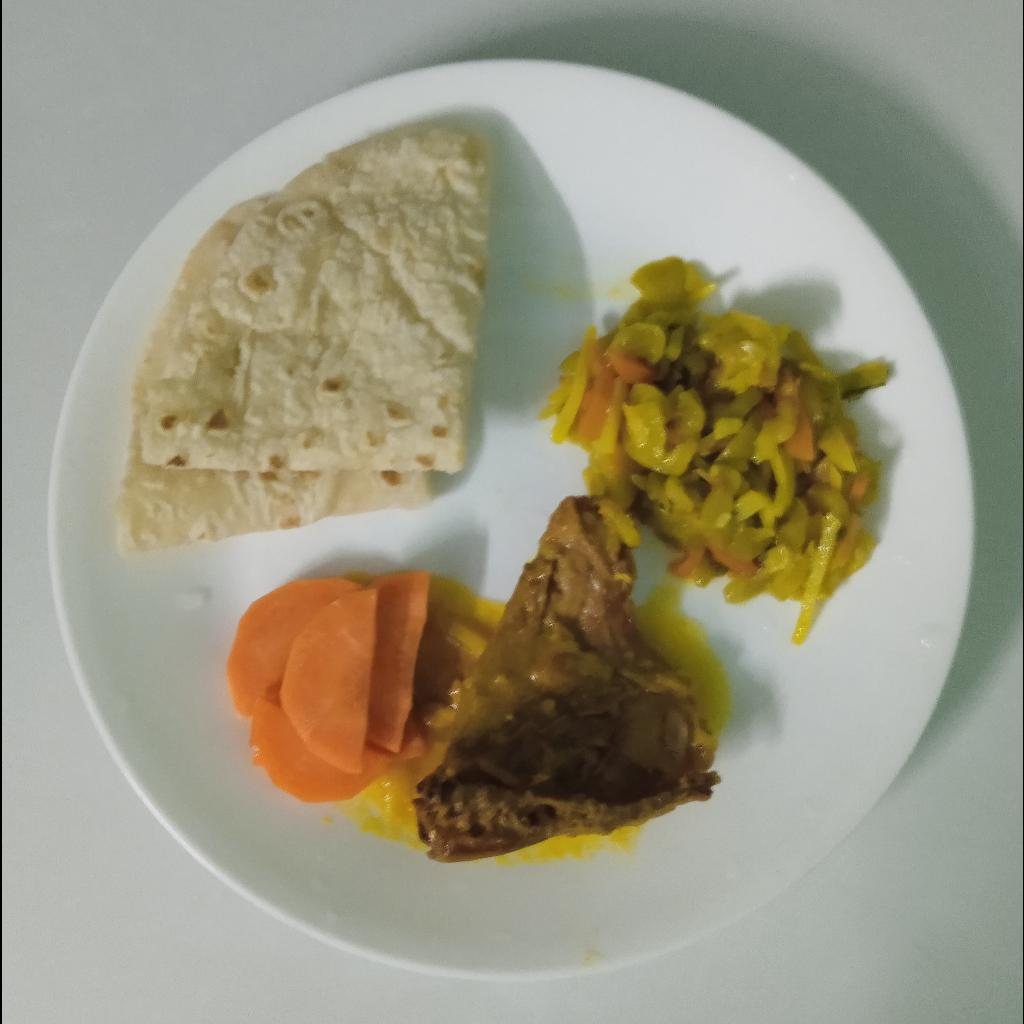carrot: (221, 564, 433, 806)
chicken: (413, 507, 723, 866)
ruti: (115, 118, 481, 557)
vegetable: (540, 255, 899, 651)
